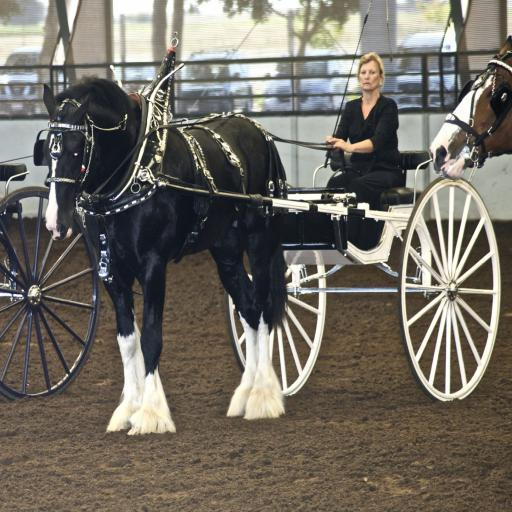horse: (34, 69, 290, 435), (429, 33, 512, 181)
